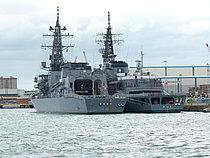MIL_Ship: (28, 12, 128, 115), (101, 15, 185, 114)
